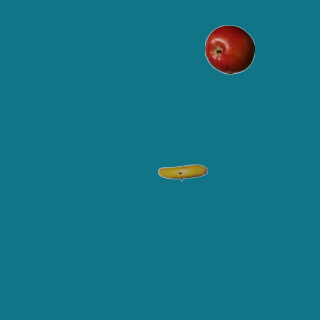Apple Braeburn: (204, 24, 254, 74)
Banana: (157, 147, 207, 197)
